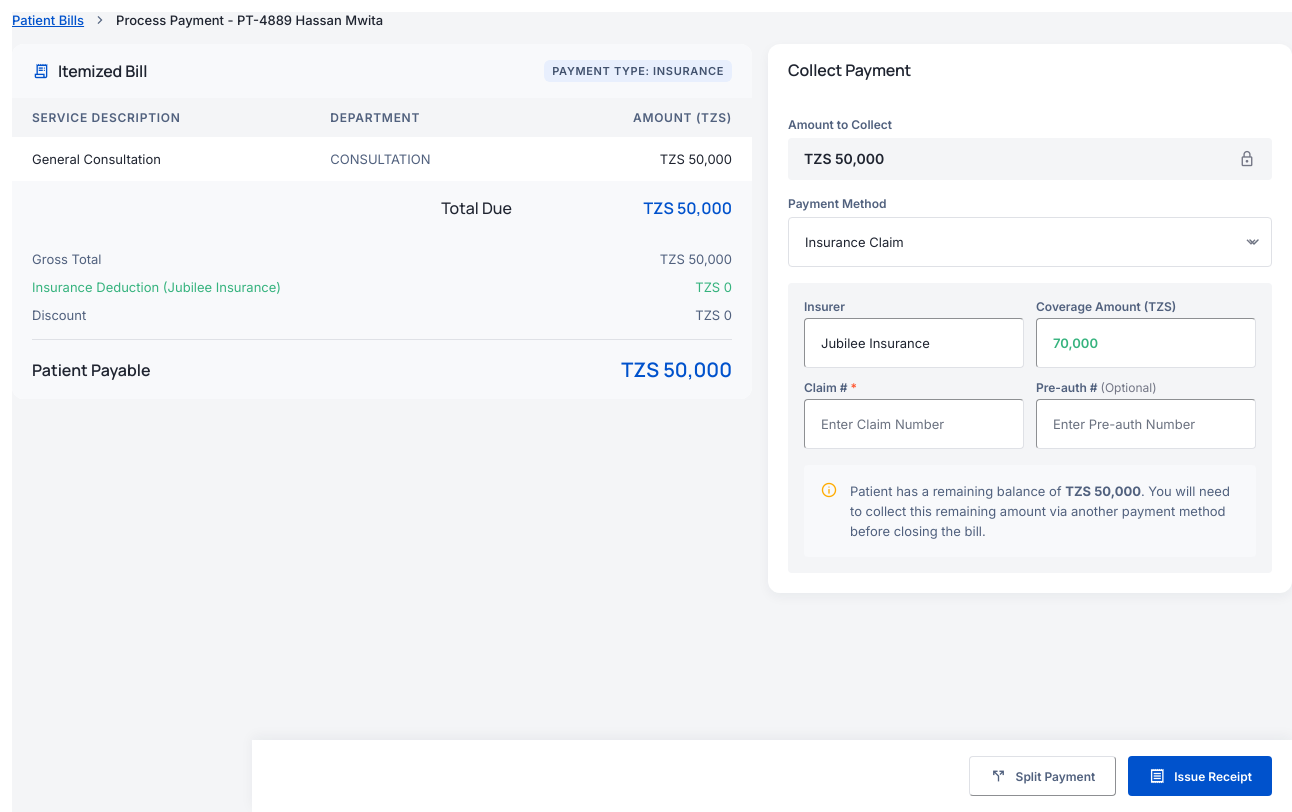
Test: ProcessingPaymentPage › switches to cash and mobile money variants
Select "Cash" in the dropdown labelled "Payment Method": x=1030, y=242 788,217 -> 1272,267
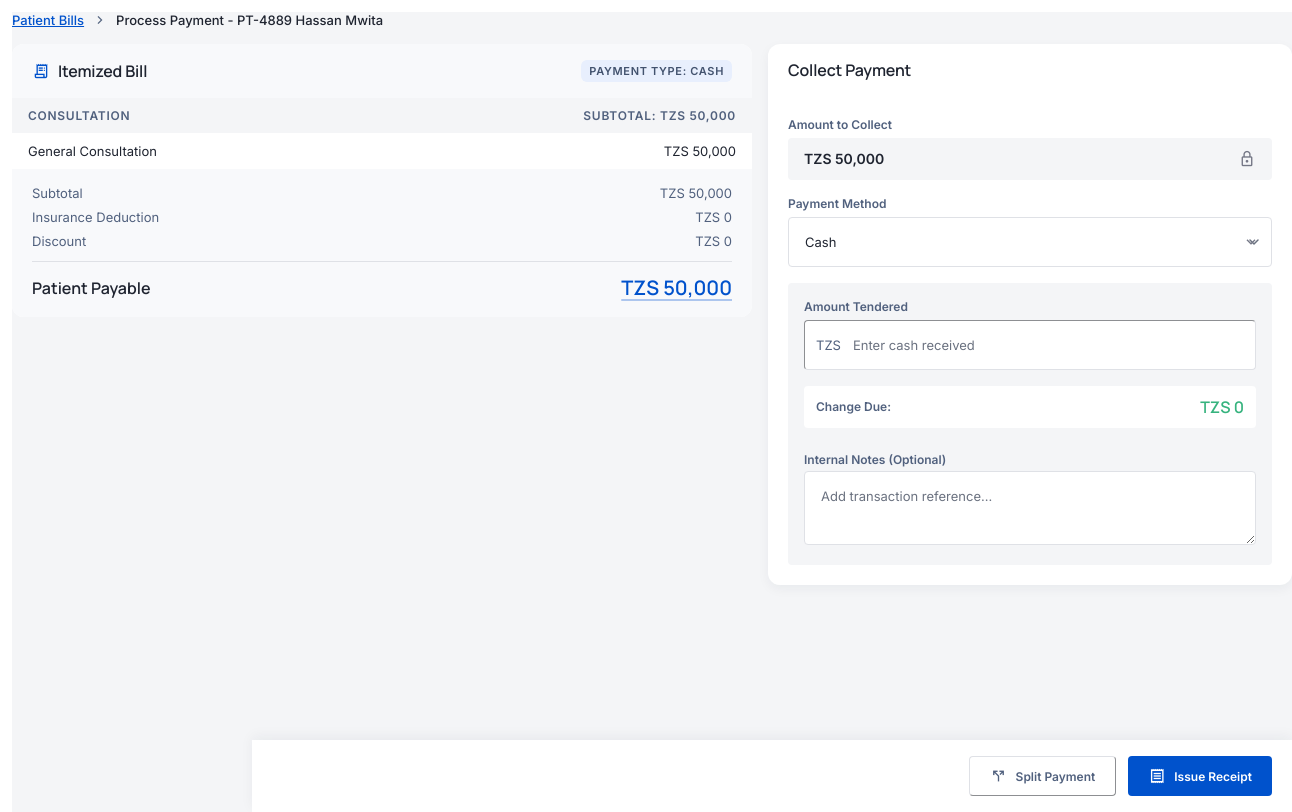
Expected: the text "Amount Tendered" is shown, 804,299 -> 908,314
Expected: the text "Internal Notes (Optional)" is shown, 804,452 -> 946,467
Select "Mobile Money" in the dropdown labelled "Payment Method": x=1030, y=242 788,217 -> 1272,267
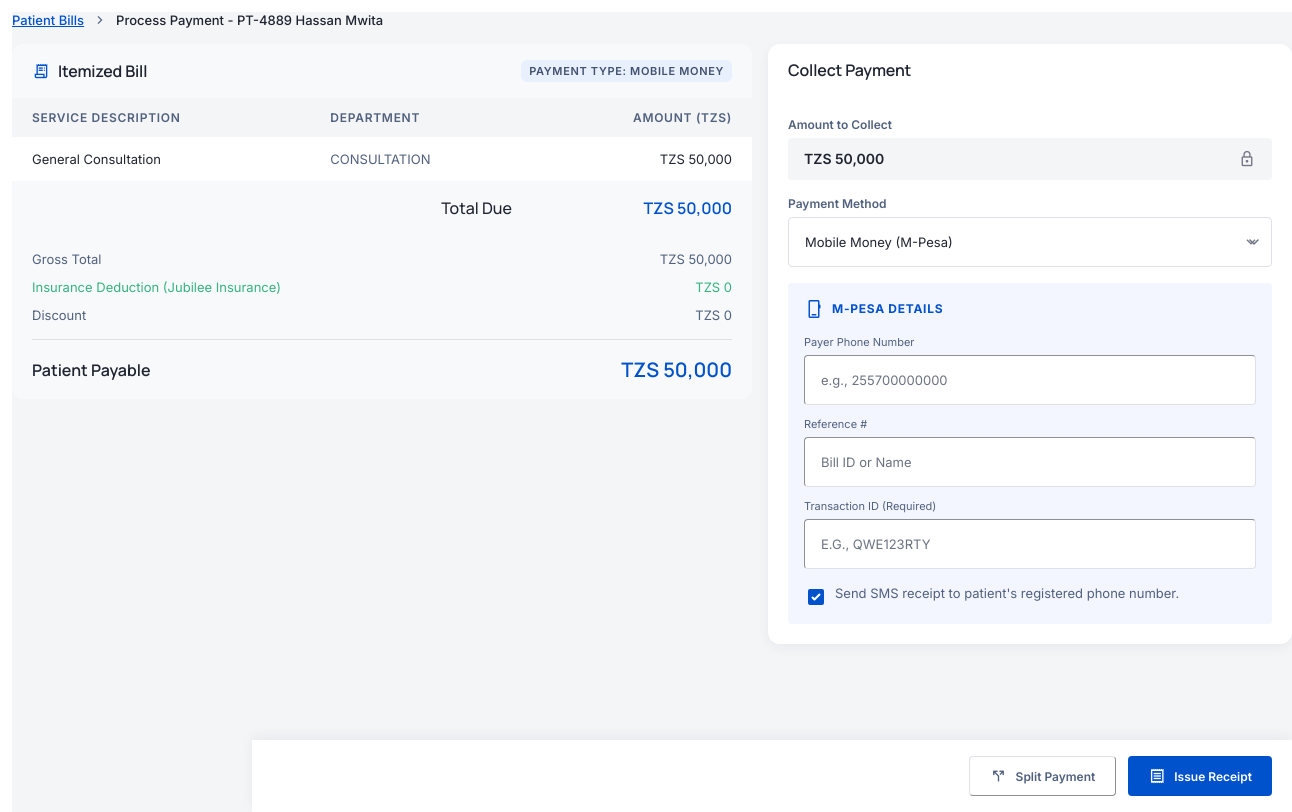
Expected: the text "M-Pesa Details" is shown, 832,301 -> 943,316
Expected: the text "Transaction ID (Required)" is shown, 804,499 -> 936,513
